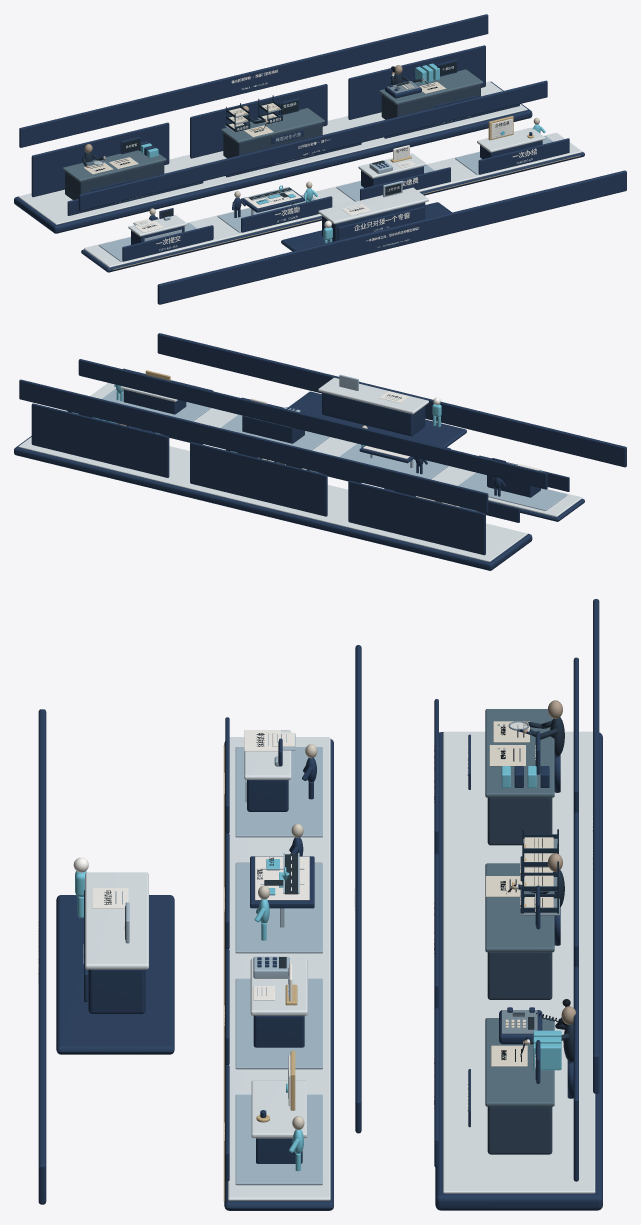
Rendered from process_lettering_v105.glb.
3 views of the same model, one above another, from view 1: azimuth 30°, elevation 25°; view 2: azimuth 150°, elevation 25°; view 3: azimuth 270°, elevation 25° (orthographic). The views are drawn at different scales.
Visible parts, largest first — view 1: Research question rail, Observation source header, Public tier header, Observation ivory floor, Separate observation deck, Continuous porcelain deck, Mechanism exhibit backplate, Mechanism exhibit backplate.002, Mechanism exhibit backplate.001, Continuous unified service platform, Unified window countertop, Readable enamel sign.003 (+20 smaller); view 2: Observation source header, Public tier header, Research question rail, Mechanism exhibit backplate.002, Mechanism exhibit backplate, Mechanism exhibit backplate.001, Observation ivory floor, Separate observation deck, Continuous porcelain deck, One enterprise-facing service counter, Enterprise approach base, Unified window countertop (+10 smaller); view 3: Observation ivory floor, Continuous porcelain deck, Enterprise approach base, Separate observation deck, Unified window countertop, Four equal inset service stands.001, Four equal inset service stands, Research question rail, Four equal inset service stands.003, Four equal inset service stands.002, Continuous unified service platform, Department porcelain surface.001 (+20 smaller).
Part boxes in pixels (x1,y1,x2,y2): Research question rail: [157, 170, 626, 304]; Observation source header: [19, 14, 488, 147]; Public tier header: [78, 80, 547, 211]; Observation ivory floor: [18, 81, 527, 224]; Separate observation deck: [14, 81, 532, 233]; Continuous porcelain deck: [84, 133, 582, 267]; Mechanism exhibit backplate: [31, 122, 169, 197]; Mechanism exhibit backplate.002: [348, 45, 485, 119]; Mechanism exhibit backplate.001: [190, 84, 327, 158]; Continuous unified service platform: [81, 151, 584, 272]; Unified window countertop: [318, 187, 428, 224]; Readable enamel sign.003: [478, 138, 569, 174]; Observation source header: [19, 379, 488, 513]; Public tier header: [78, 359, 547, 489]; Research question rail: [157, 333, 626, 467]; Mechanism exhibit backplate.002: [31, 403, 169, 477]; Mechanism exhibit backplate: [348, 480, 485, 555]; Mechanism exhibit backplate.001: [190, 442, 327, 516]; Observation ivory floor: [18, 437, 527, 561]; Separate observation deck: [14, 436, 532, 570]; Continuous porcelain deck: [90, 383, 582, 516]; One enterprise-facing service counter: [322, 392, 425, 436]; Enterprise approach base: [288, 391, 466, 447]; Unified window countertop: [318, 377, 428, 414]; Observation ivory floor: [443, 731, 595, 1193]; Continuous porcelain deck: [228, 737, 330, 1200]; Enterprise approach base: [56, 895, 174, 1054]; Separate observation deck: [435, 732, 602, 1210]; Unified window countertop: [85, 872, 148, 969]; Four equal inset service stands.001: [235, 862, 322, 953]; Four equal inset service stands: [235, 747, 322, 837]; Research question rail: [38, 709, 46, 1204]; Four equal inset service stands.003: [235, 1094, 322, 1185]; Four equal inset service stands.002: [235, 978, 322, 1069]; Continuous unified service platform: [224, 739, 333, 1210]; Department porcelain surface.001: [485, 863, 554, 952].
Bounding box in the file's own units: 14.5 × 2.2 × 7.42.
